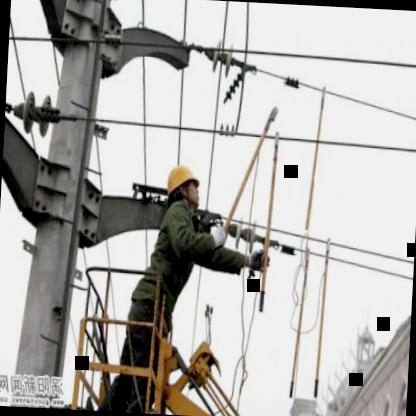helmet: (164, 161, 202, 215)
